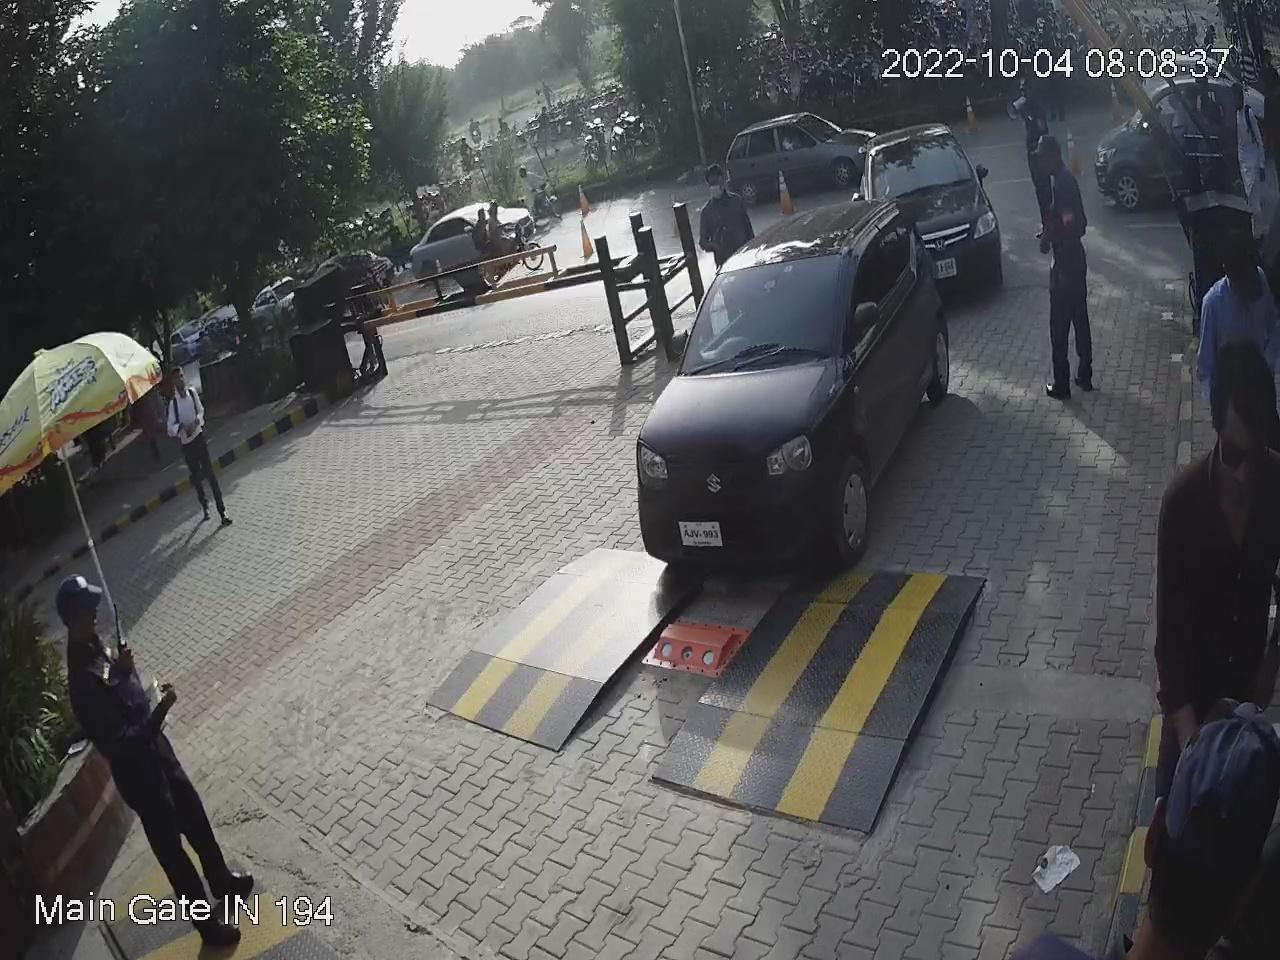windshield: (675, 242, 848, 370)
